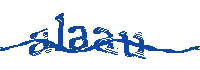a: (29, 25, 52, 58), (94, 25, 117, 54), (67, 25, 90, 52)
l: (54, 11, 66, 53)
u: (119, 29, 147, 60)
